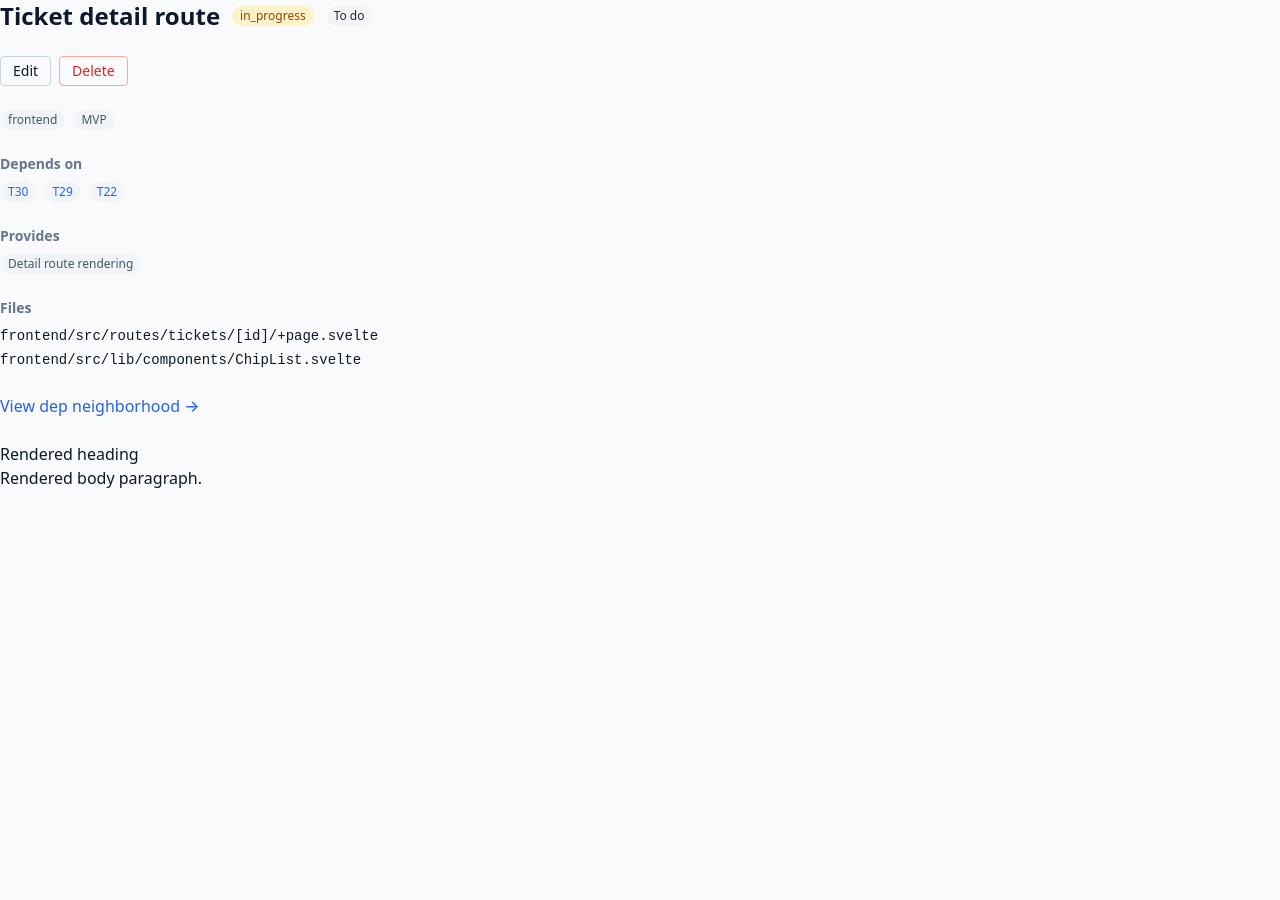
Test: ticket detail write affordances › closes the edit dialog and reloads the ticket after a successful save
The width and height of the screenshot is (1280, 900).
Click the button "Edit" at (26, 71), box [0, 56, 51, 86]
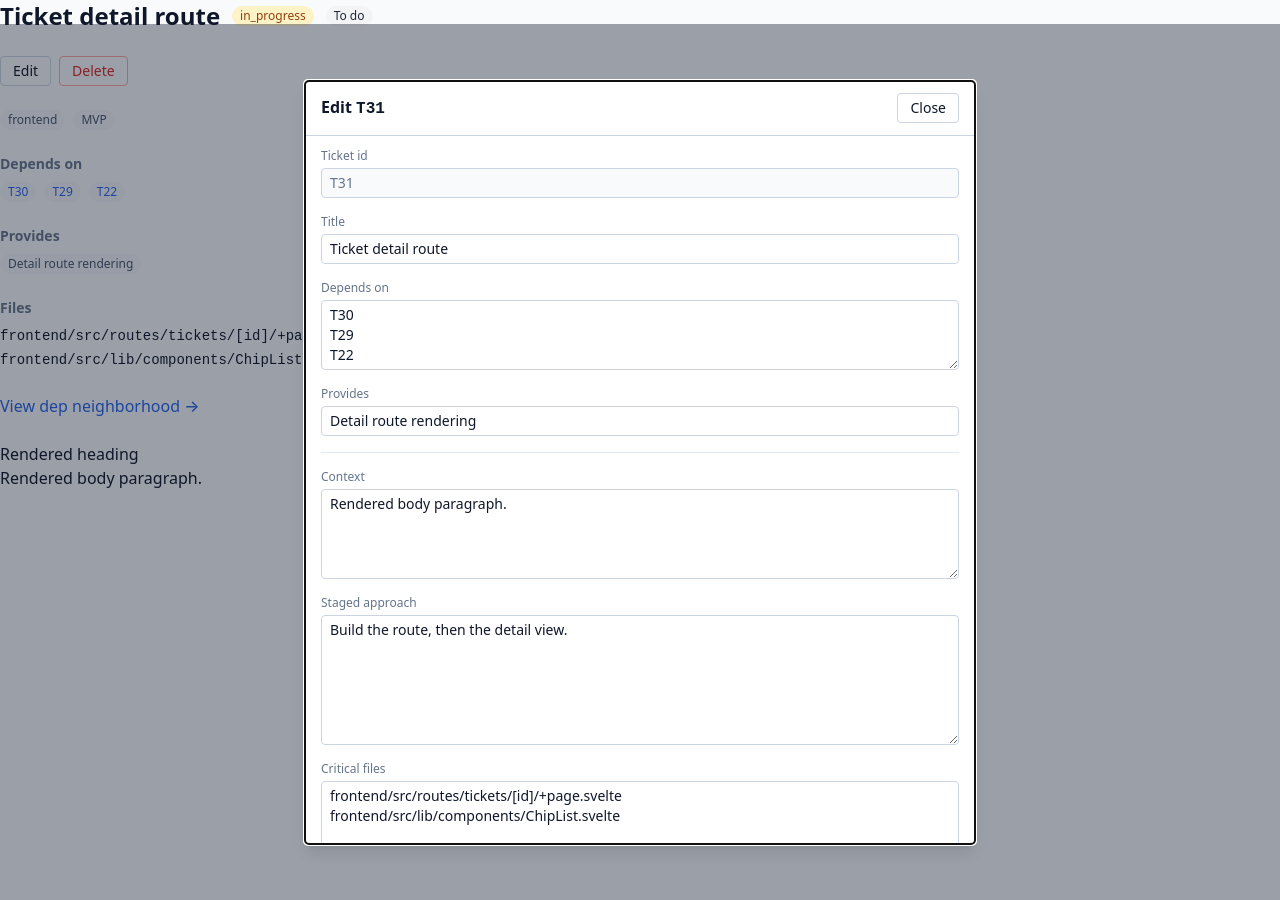
Replace the text in the field labelled "Title" with "Renamed" at (640, 248), box [321, 234, 959, 264]
(page scrolled)
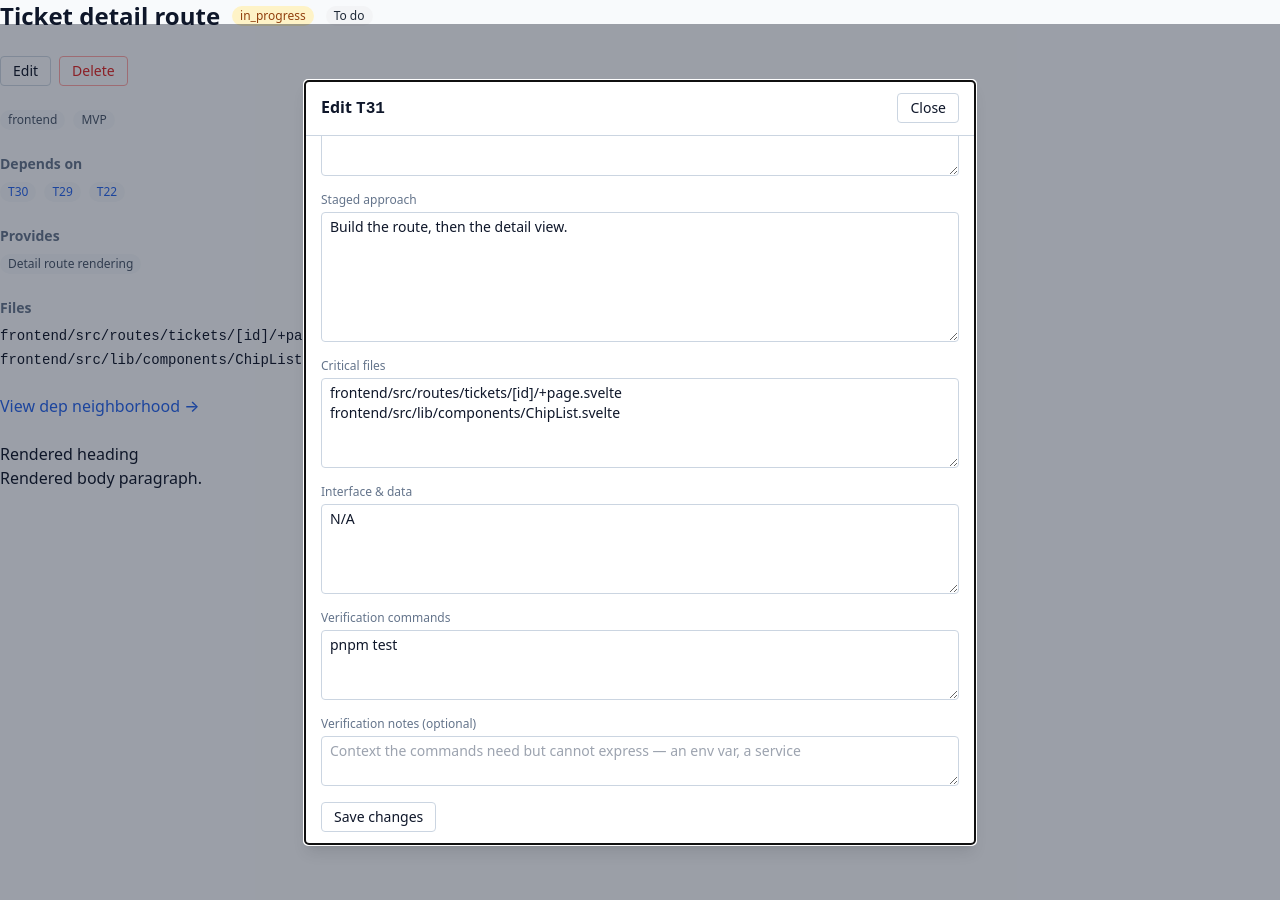
Click the button "Save changes" at (379, 816), box [321, 802, 436, 832]
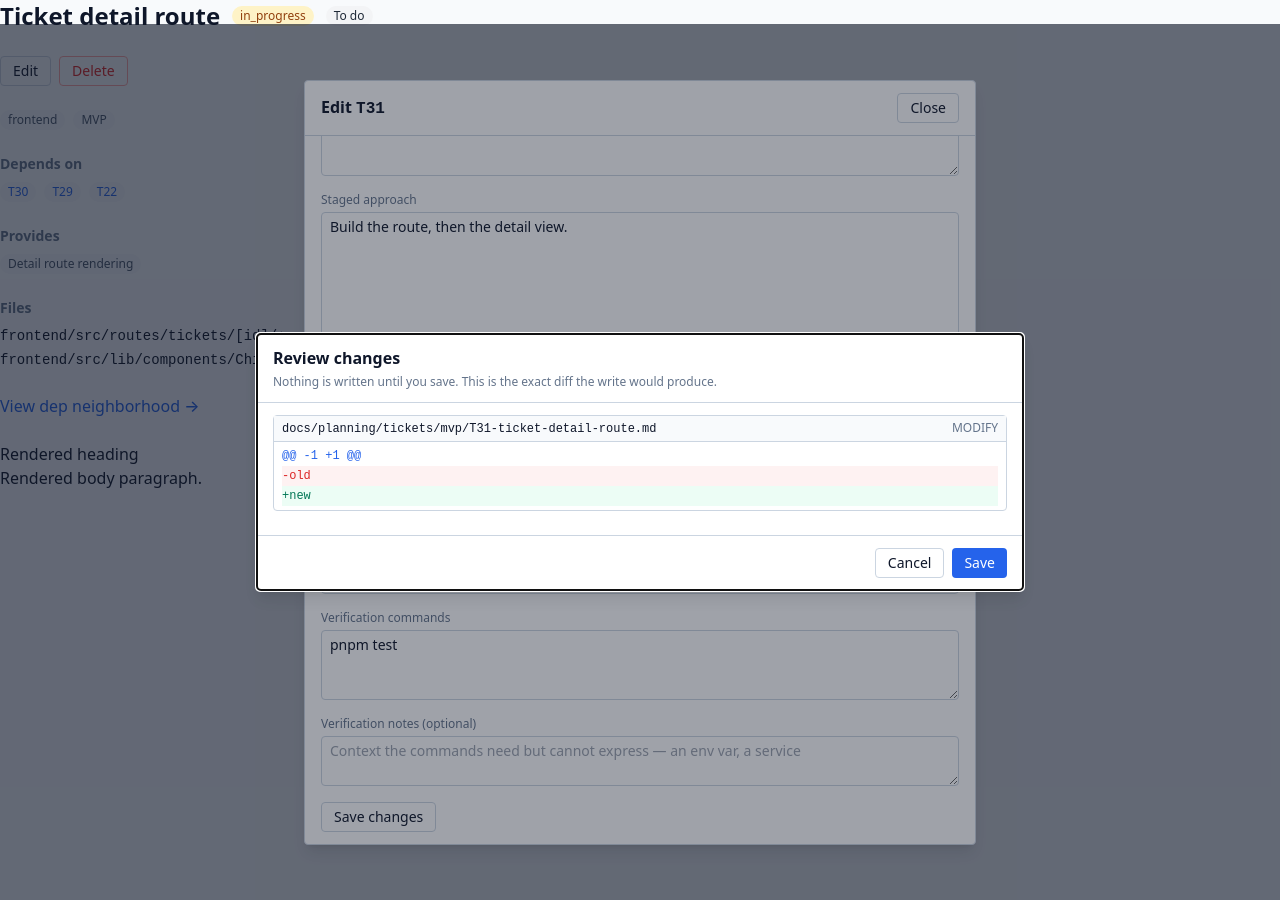
Click the button "Save" at (980, 563), box [952, 548, 1007, 578]
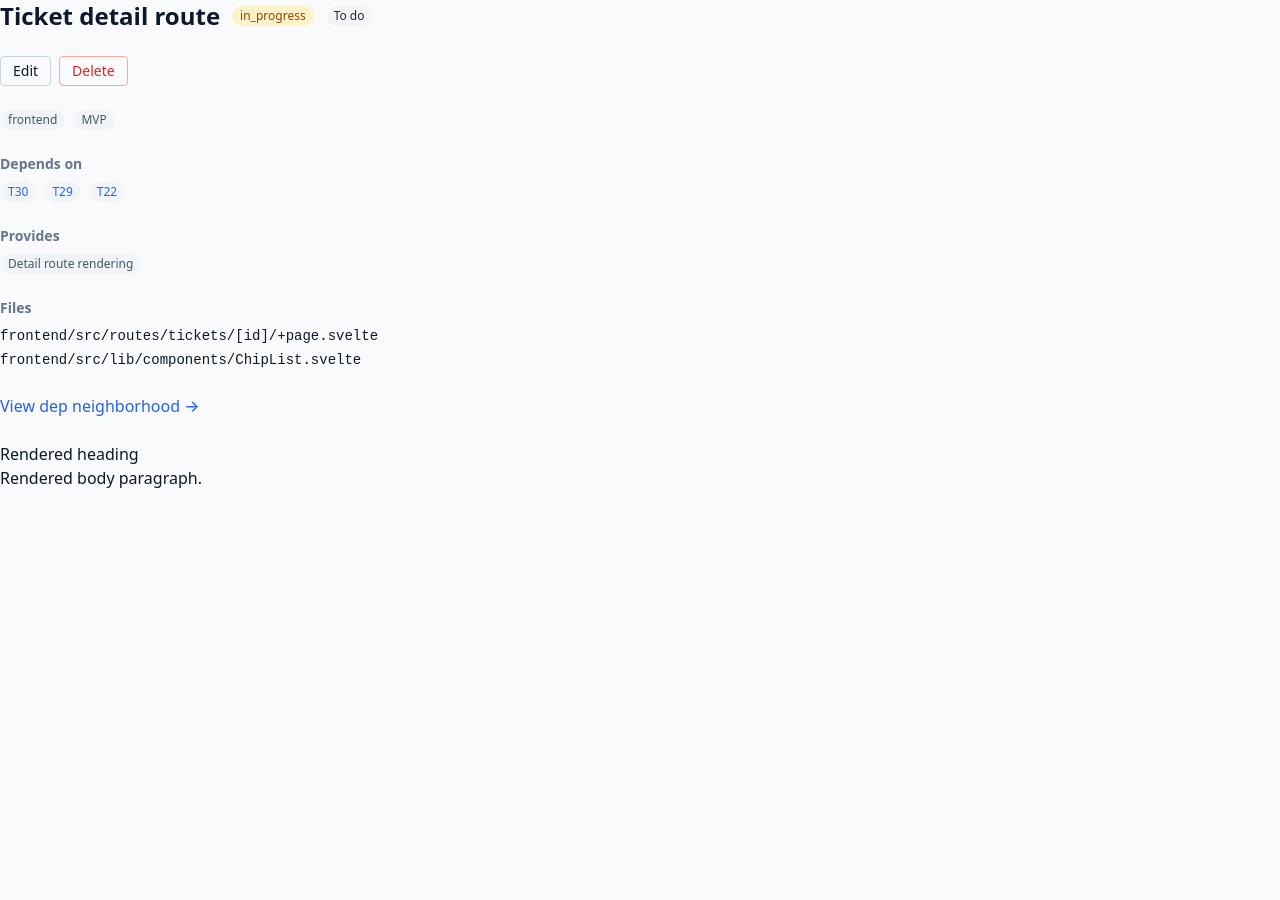
Now the dialog is gone
